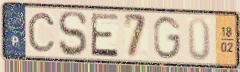0: (187, 15, 212, 63)
7: (122, 12, 150, 60)
C: (26, 11, 57, 54)
E: (89, 11, 120, 59)
G: (152, 15, 183, 61)
S: (57, 10, 89, 58)
